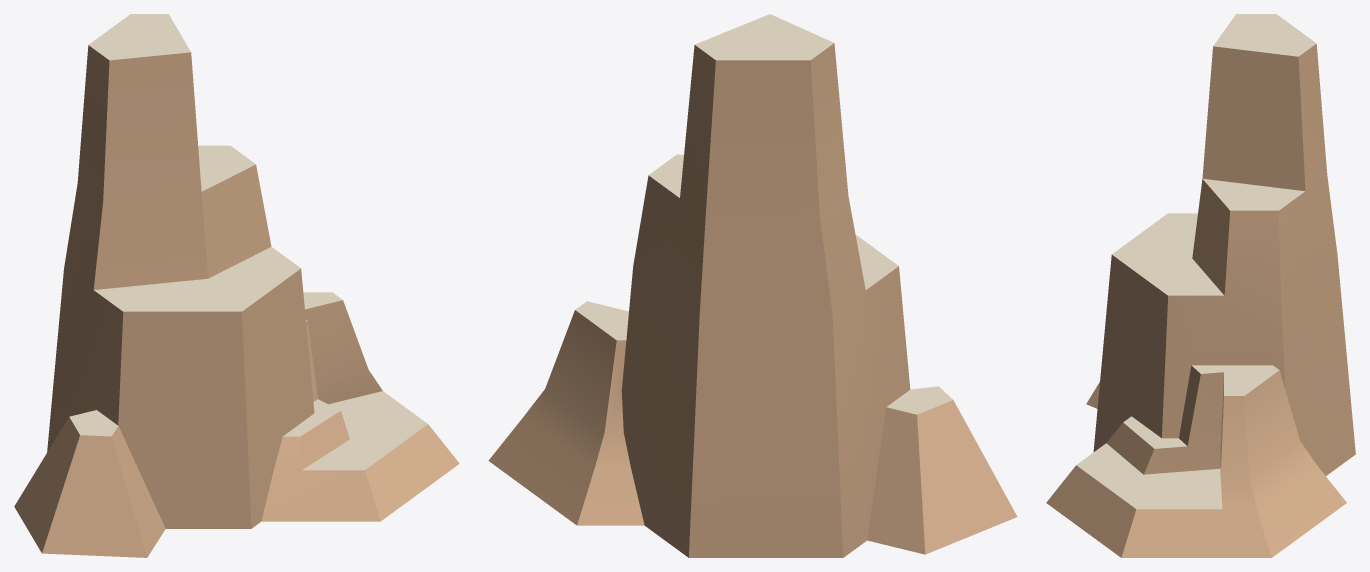
The model's file is rockform.gltf.
3 views of the same model, side by side, from view 1: azimuth 30°, elevation 25°; view 2: azimuth 150°, elevation 25°; view 3: azimuth 270°, elevation 25° (orthographic). The views are drawn at different scales.
Visible parts, largest first — view 1: formationLarge_rock; view 2: formationLarge_rock; view 3: formationLarge_rock.
Part boxes in pixels (x1,y1,x2,y2): formationLarge_rock: (14,14,459,557); formationLarge_rock: (488,14,1017,557); formationLarge_rock: (1046,14,1355,557).
Bounding box in the file's own units: 13.62 × 13.8 × 9.47.
